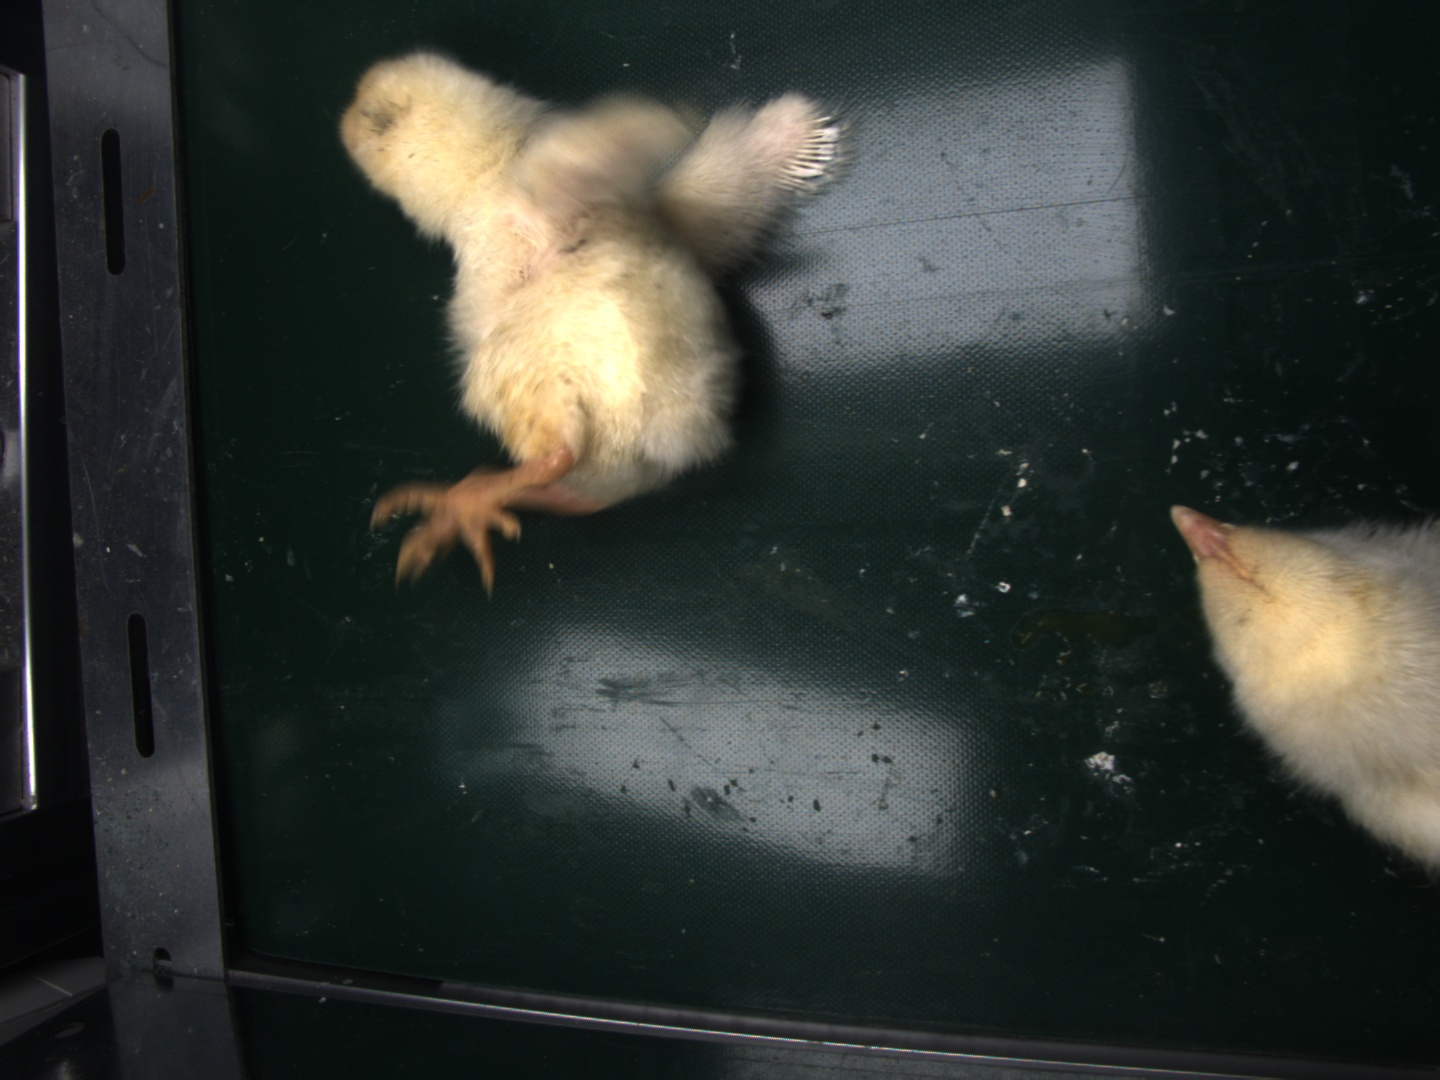male: (782, 115, 841, 182)
